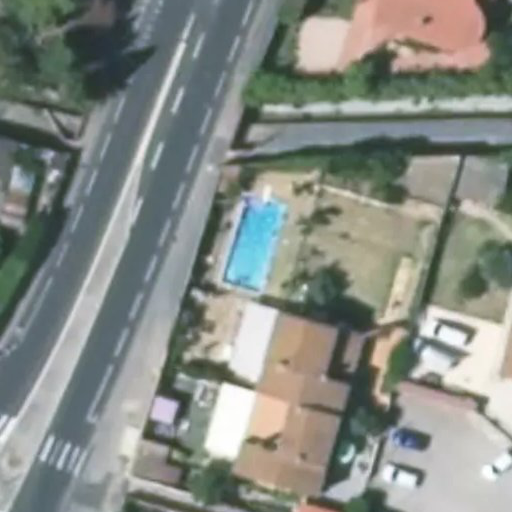pool: (218, 198, 287, 297)
